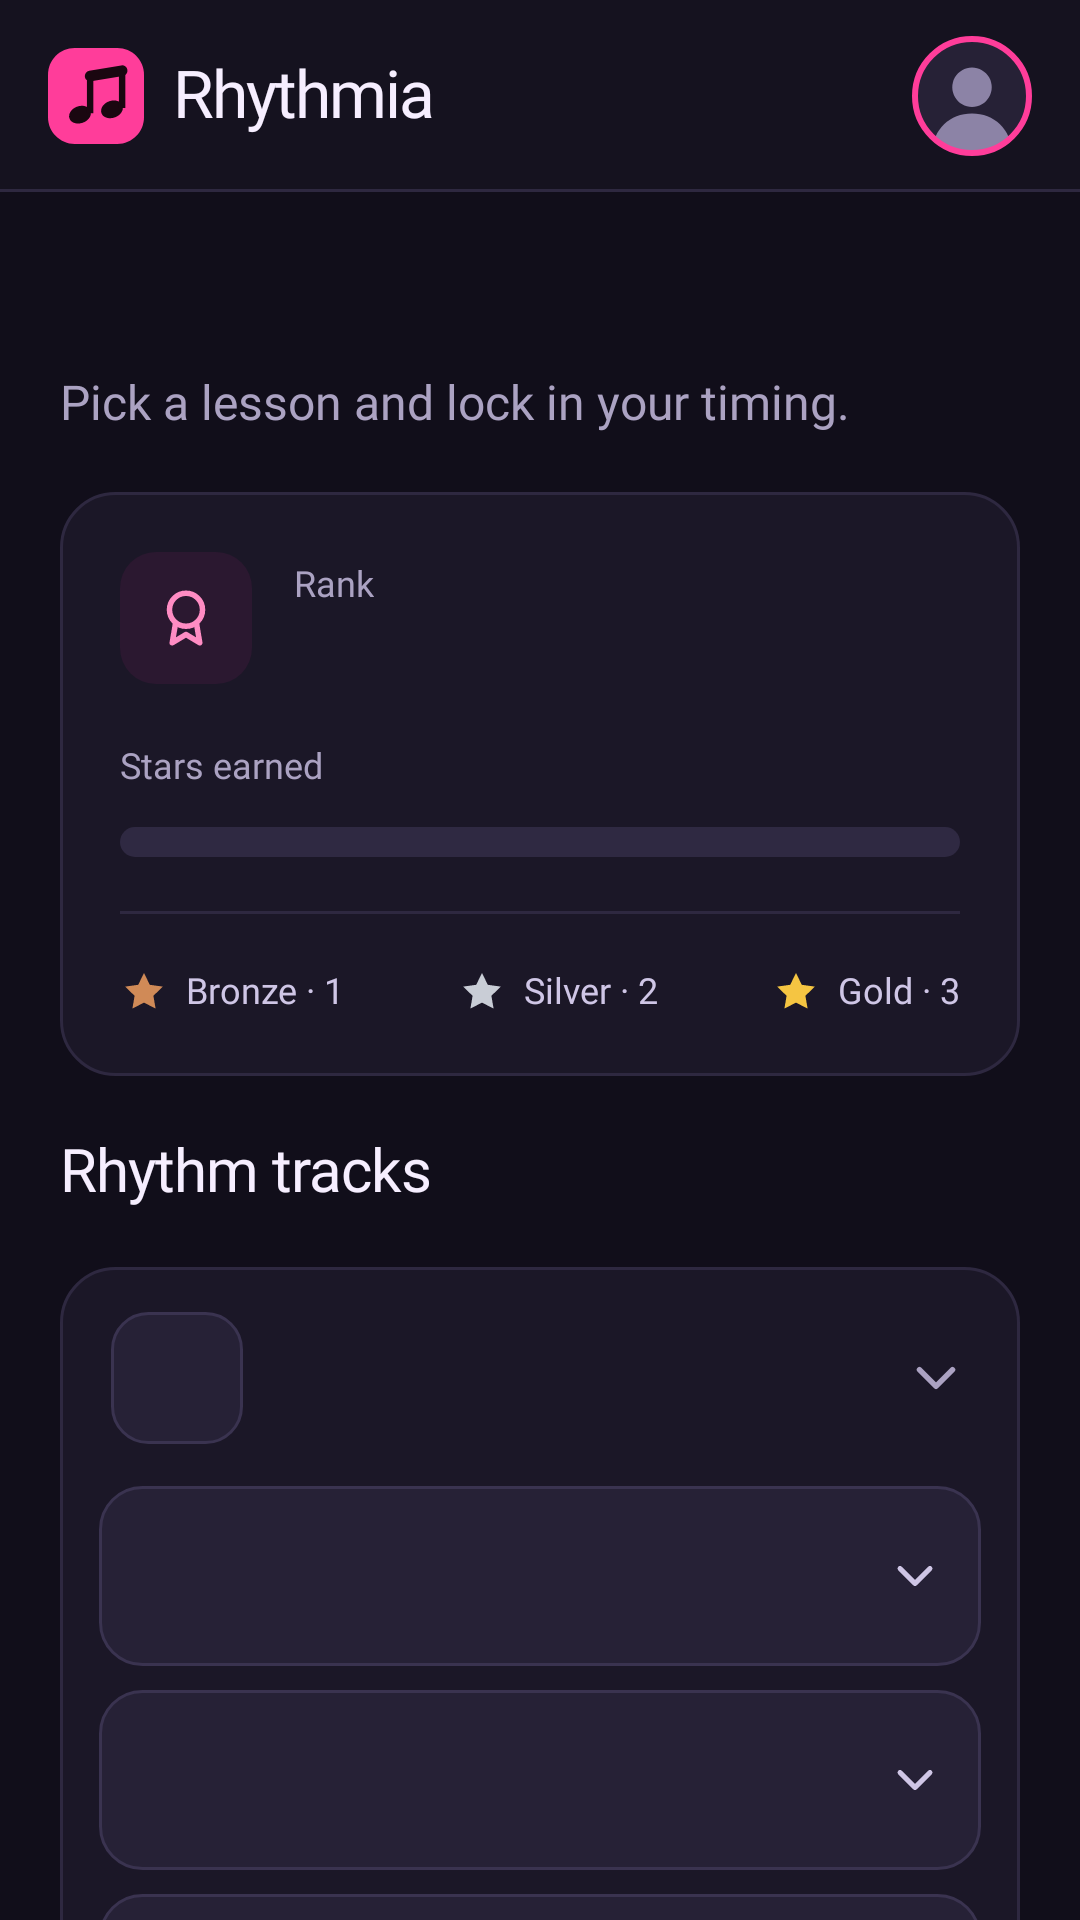

Locate icon controls on the screen. Image size 1080px x 1920px, boxes as (x1, y1, x2, y2).
chevron down: (916, 1367, 956, 1389), (897, 1566, 933, 1586), (897, 1770, 933, 1790)
medal: (166, 590, 206, 646)
